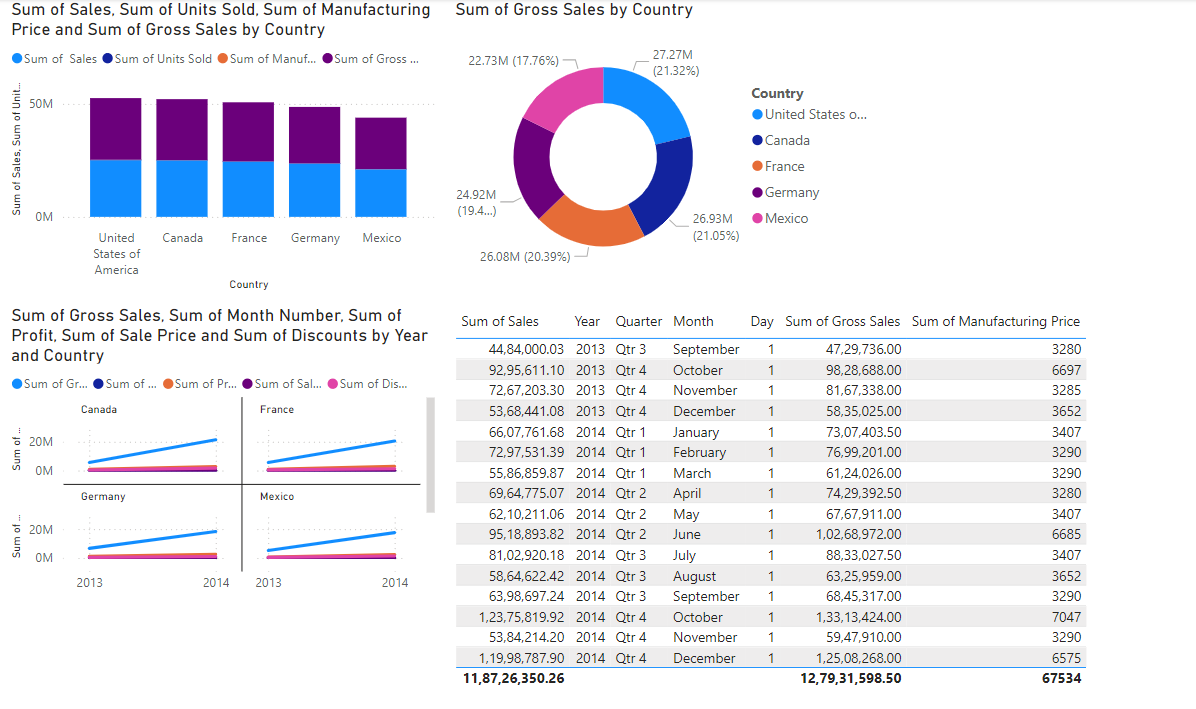

What the dashboard file says about the page in this screenshot:
{"tool":"powerbi","page":{"name":"Page 1","canvas":[1280,720],"ordinal":0},"visuals":[{"type":"columnChart","fields":{"Y":["Sum(financials. Sales)","Sum(financials.Units Sold)","Sum(financials.Manufacturing Price)","Sum(financials.Gross Sales)"],"Category":["financials.Country"]},"box":[9.7,0,422.1,287.9],"z":0},{"type":"lineChart","fields":{"Category":["financials.Date.Variation.Date Hierarchy.Year","financials.Date.Variation.Date Hierarchy.Quarter","financials.Date.Variation.Date Hierarchy.Month","financials.Date.Variation.Date Hierarchy.Day"],"Y":["Sum(financials.Gross Sales)","Sum(financials.Month Number)","Sum(financials.Profit)","Sum(financials.Sale Price)","Sum(financials.Discounts)"],"Rows":["financials.Country"]},"box":[10,298,422,288],"z":1},{"type":"donutChart","fields":{"Category":["financials.Country"],"Y":["Sum(financials.Gross Sales)"]},"box":[442,0,422,288],"z":2},{"type":"tableEx","fields":{"Values":["Sum(financials. Sales)","financials.Date.Variation.Date Hierarchy.Year","financials.Date.Variation.Date Hierarchy.Quarter","financials.Date.Variation.Date Hierarchy.Month","financials.Date.Variation.Date Hierarchy.Day","Sum(financials.Gross Sales)","Sum(financials.Manufacturing Price)"]},"box":[441.6,297.6,644.9,380.3],"z":3}]}

Visuals, with their boxes on the page's 1280x720 design canvas (x1, y1, x2, y2). These are canvas units, not pixel positions in the 1196x709 screenshot, which may show the page scaled, cropped or inside an application window:
columnChart - Sum(financials. Sales) x Sum(financials.Units Sold): 10 0 432 288
lineChart - financials.Date.Variation.Date Hierarchy.Year x financials.Date.Variation.Date Hierarchy.Quarter: 10 298 432 586
donutChart - financials.Country x Sum(financials.Gross Sales): 442 0 864 288
tableEx - Sum(financials. Sales) x financials.Date.Variation.Date Hierarchy.Year: 442 298 1086 678
